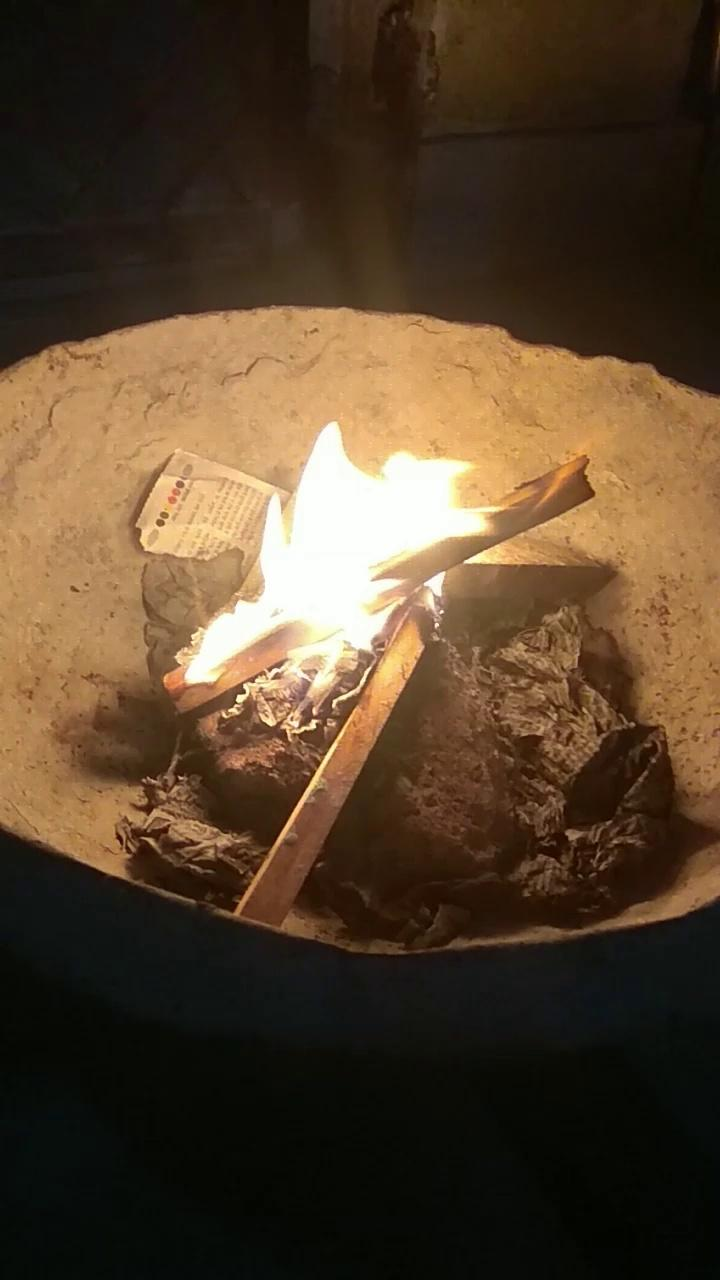fire: (200, 380, 506, 704)
